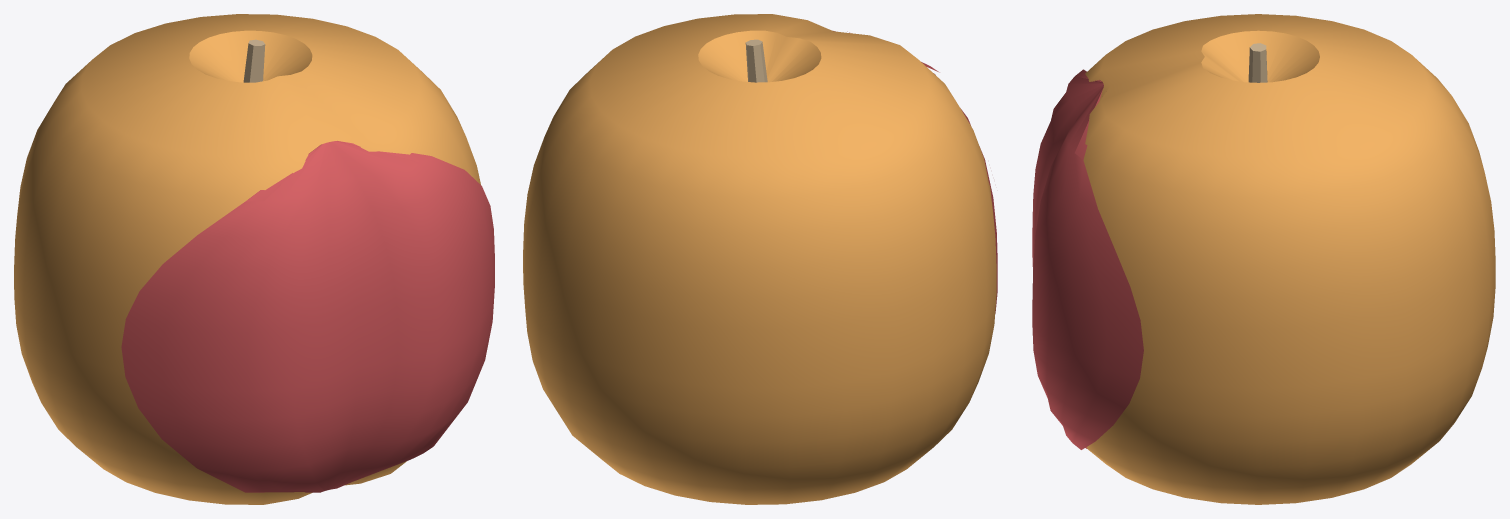
The model's file is fresh-produce-and-groceries-peach-8e147c62__24317.glb.
3 views of the same model, side by side, from view 1: azimuth 30°, elevation 25°; view 2: azimuth 150°, elevation 25°; view 3: azimuth 270°, elevation 25° (orthographic).
Parts seen in each view (by area): view 1: peach; view 2: peach; view 3: peach.
Part boxes in pixels (bbox=[...]): peach: bbox=[14, 14, 494, 504]; peach: bbox=[523, 14, 997, 504]; peach: bbox=[1032, 14, 1495, 504].
Size of the model in its own units: 0.07 by 0.0681 by 0.0684.
